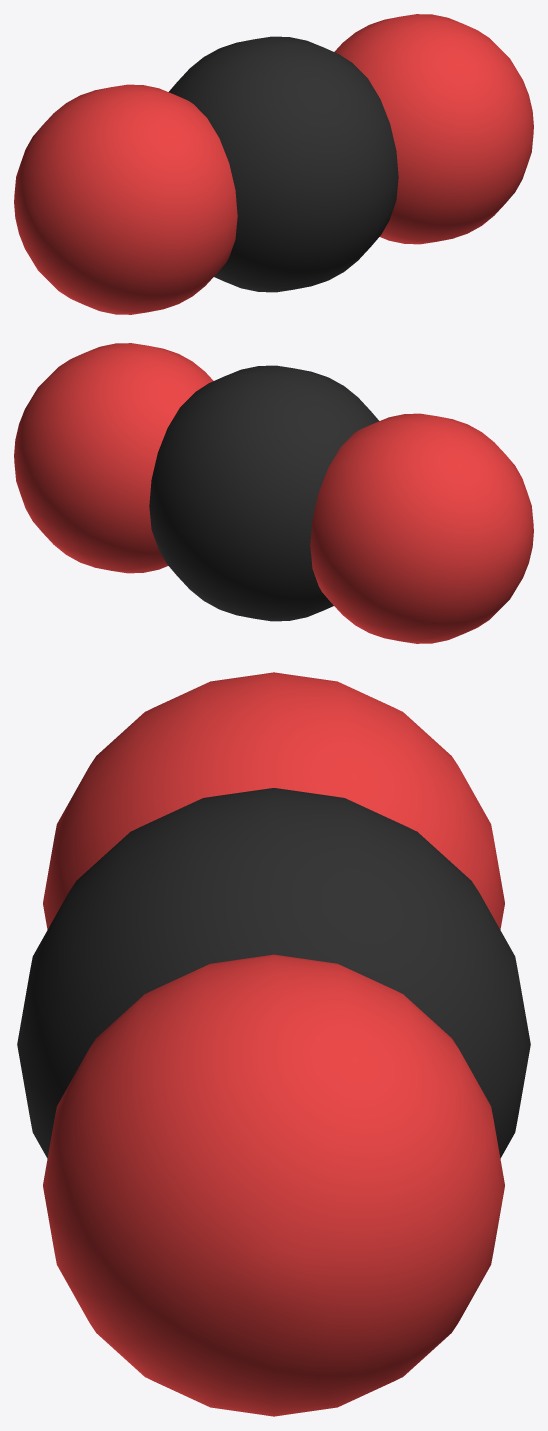
The model's file is sw_swjj_eyht.fbx.
3 renders of one model, top to bottom at view 1: azimuth 30°, elevation 25°; view 2: azimuth 150°, elevation 25°; view 3: azimuth 270°, elevation 25°, orthographic. The views are drawn at different scales.
Parts seen in each view (by area): view 1: sw_swjj_eyht; view 2: sw_swjj_eyht; view 3: sw_swjj_eyht.
Boxes of the visible parts, x1,y1,x2,y2 form: sw_swjj_eyht: (14,14,533,314); sw_swjj_eyht: (14,343,533,643); sw_swjj_eyht: (17,672,530,1416).
Bounding box in the file's own units: 4.4 × 2 × 2.
